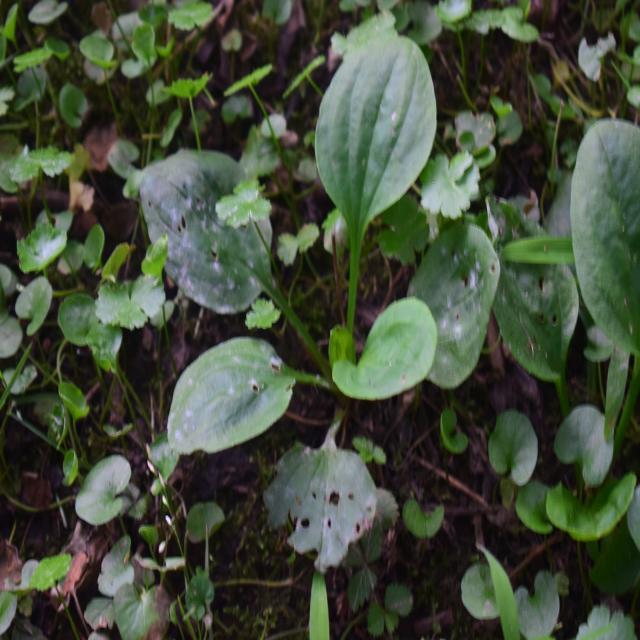plantain: (146, 36, 493, 489)
